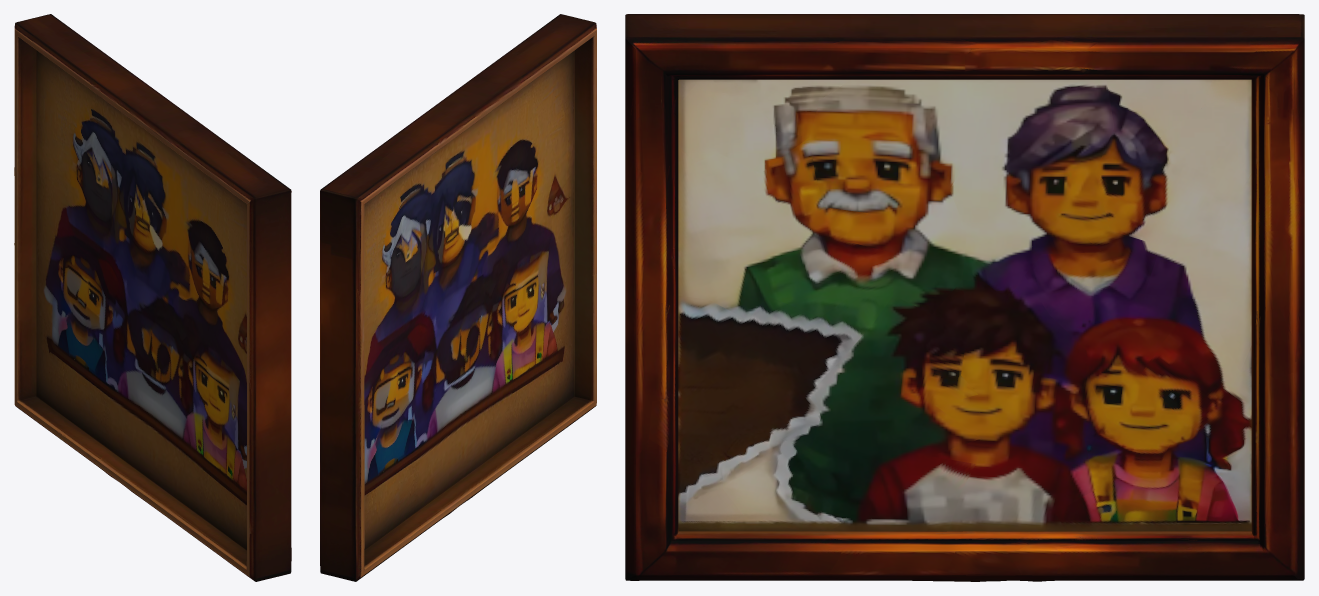
The model's file is family.glb.
3 views of the same model, side by side, from view 1: azimuth 30°, elevation 25°; view 2: azimuth 150°, elevation 25°; view 3: azimuth 270°, elevation 25° (orthographic). The views are drawn at different scales.
Parts seen in each view (by area): view 1: tripo_node_4b82b2c2-d90c-410d-b763-0a4073f9e1b0; view 2: tripo_node_4b82b2c2-d90c-410d-b763-0a4073f9e1b0; view 3: tripo_node_4b82b2c2-d90c-410d-b763-0a4073f9e1b0.
Part boxes in pixels (bbox=[...]): tripo_node_4b82b2c2-d90c-410d-b763-0a4073f9e1b0: bbox=[14, 14, 291, 581]; tripo_node_4b82b2c2-d90c-410d-b763-0a4073f9e1b0: bbox=[320, 14, 596, 581]; tripo_node_4b82b2c2-d90c-410d-b763-0a4073f9e1b0: bbox=[625, 14, 1304, 581].
Size of the model in its own units: 0.1032 by 0.8844 by 1.
1 material, 1 textured.
